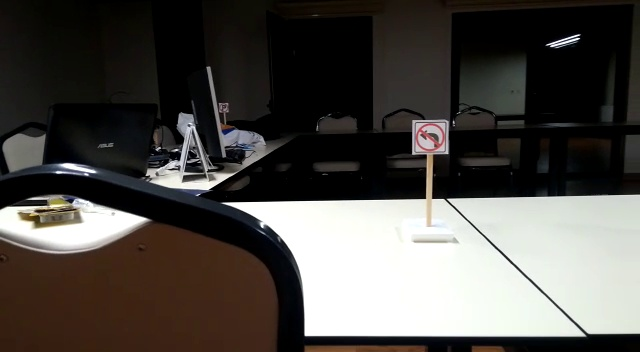sola_donulmez: (408, 117, 453, 156)
